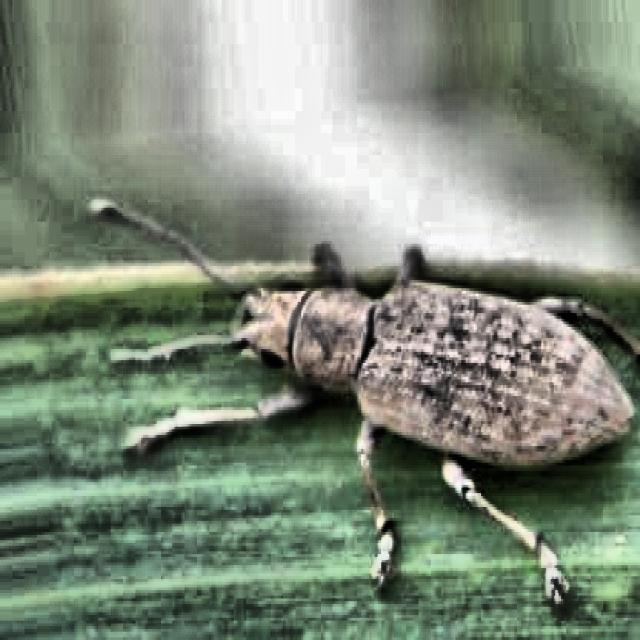Stink bug: (92, 155, 625, 567)
